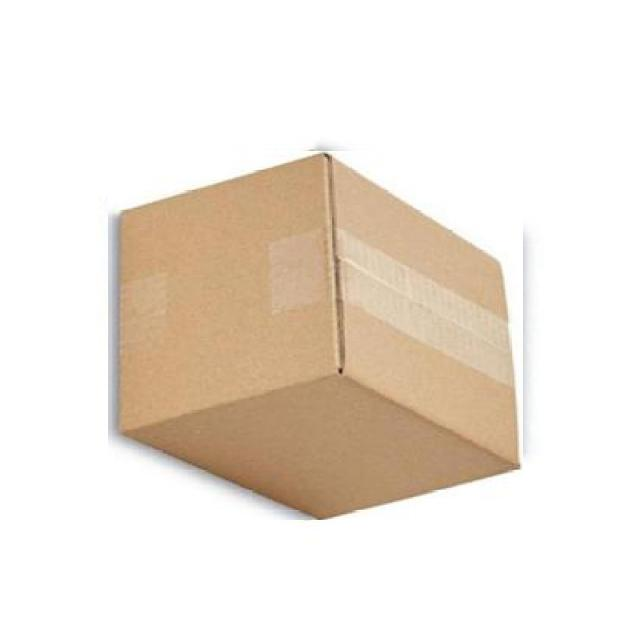normal: (108, 151, 523, 520)
